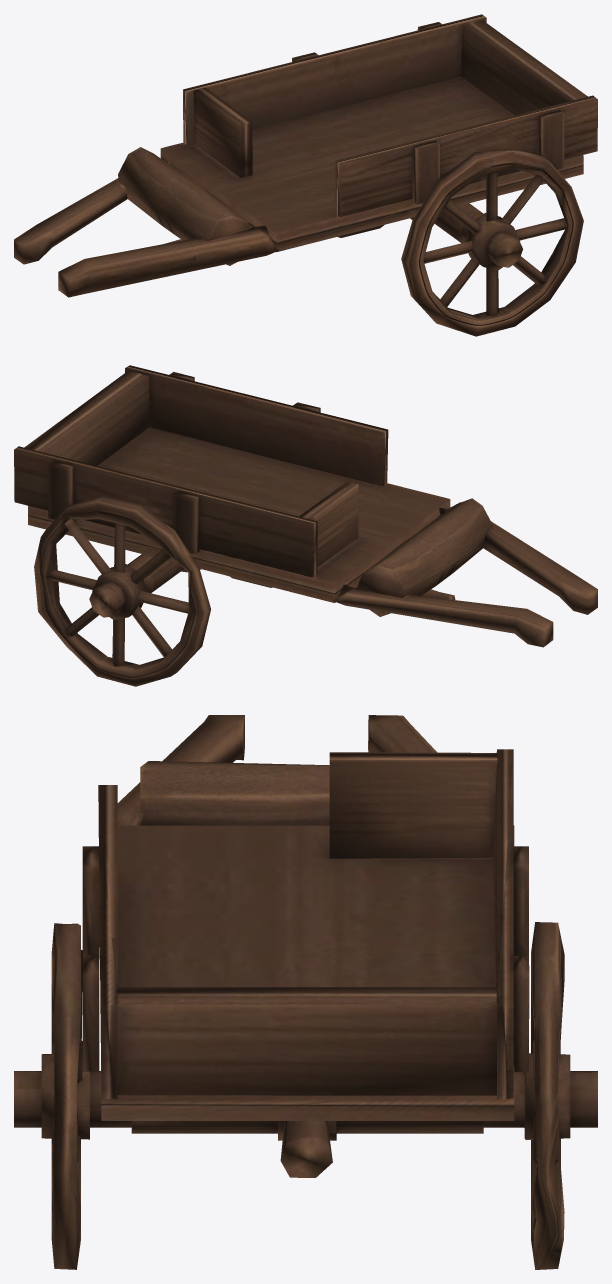
The model's file is fields-cart.glb.
3 renders of one model, top to bottom at view 1: azimuth 30°, elevation 25°; view 2: azimuth 150°, elevation 25°; view 3: azimuth 270°, elevation 25°, orthographic. The views are drawn at different scales.
Bounding box in the file's own units: 0.9575 × 0.3584 × 0.5444.
1 material, 1 textured.
